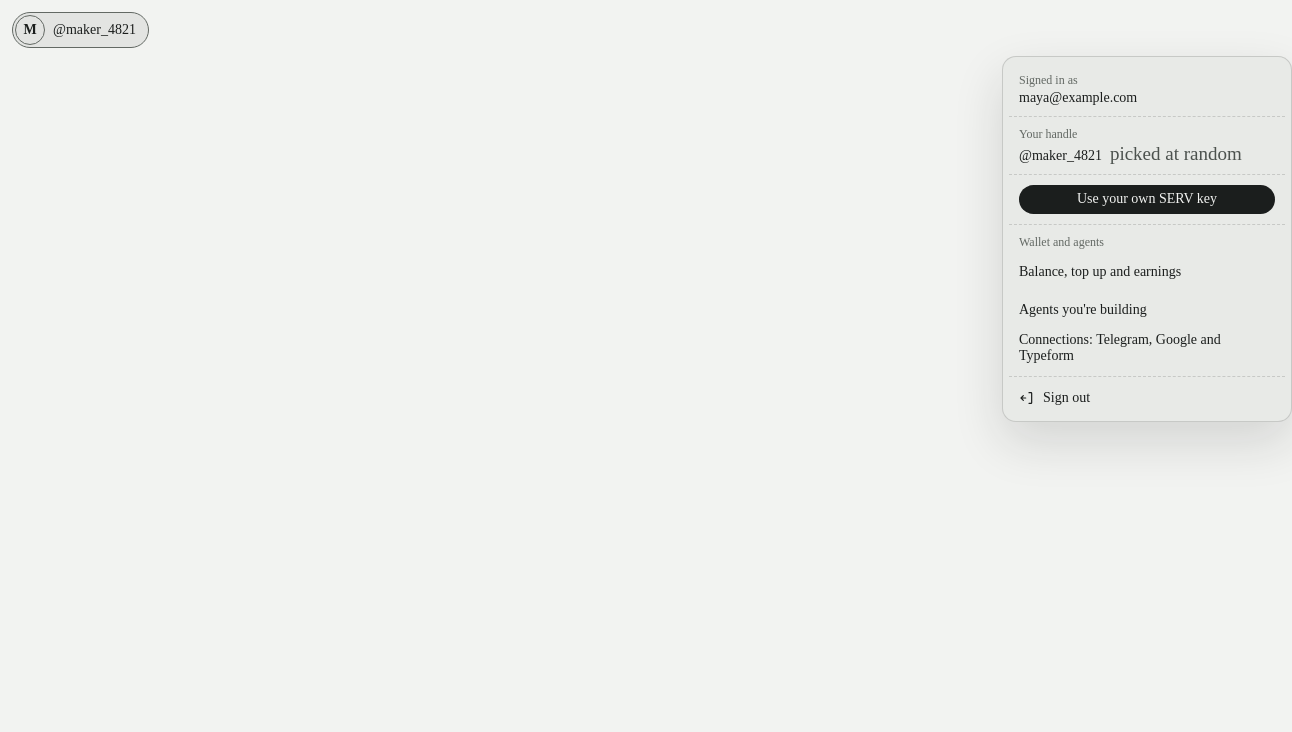
Scenario: Your SERV key › takes the key in a masked field and hands it over once, then forgets it
Click the button "Use your own SERV key" at (1147, 199), box [1019,185,1275,214]
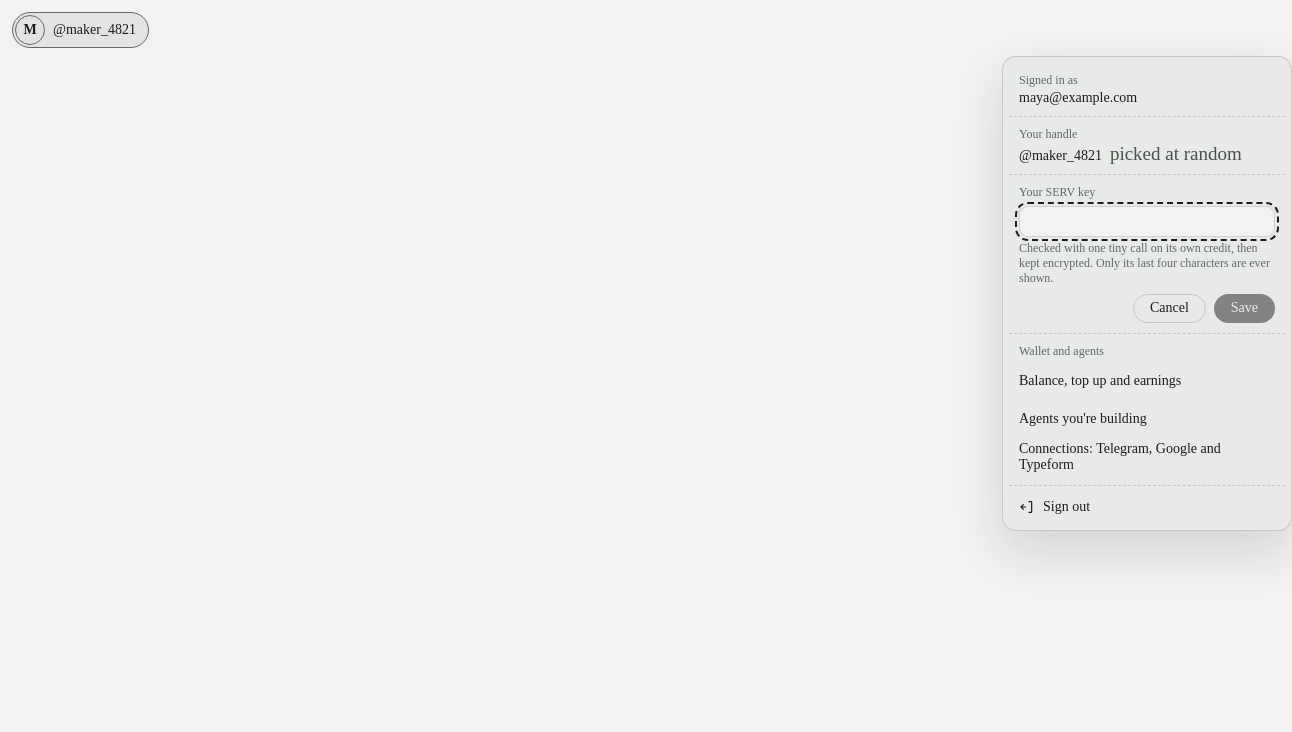
Result: the text "only its last four characters are ever shown" is shown at [1019,241,1270,285]
Type "  sk-own-abcd1234  " into the password field labelled "Your SERV key" at (1147, 222), box [1019,206,1275,237]
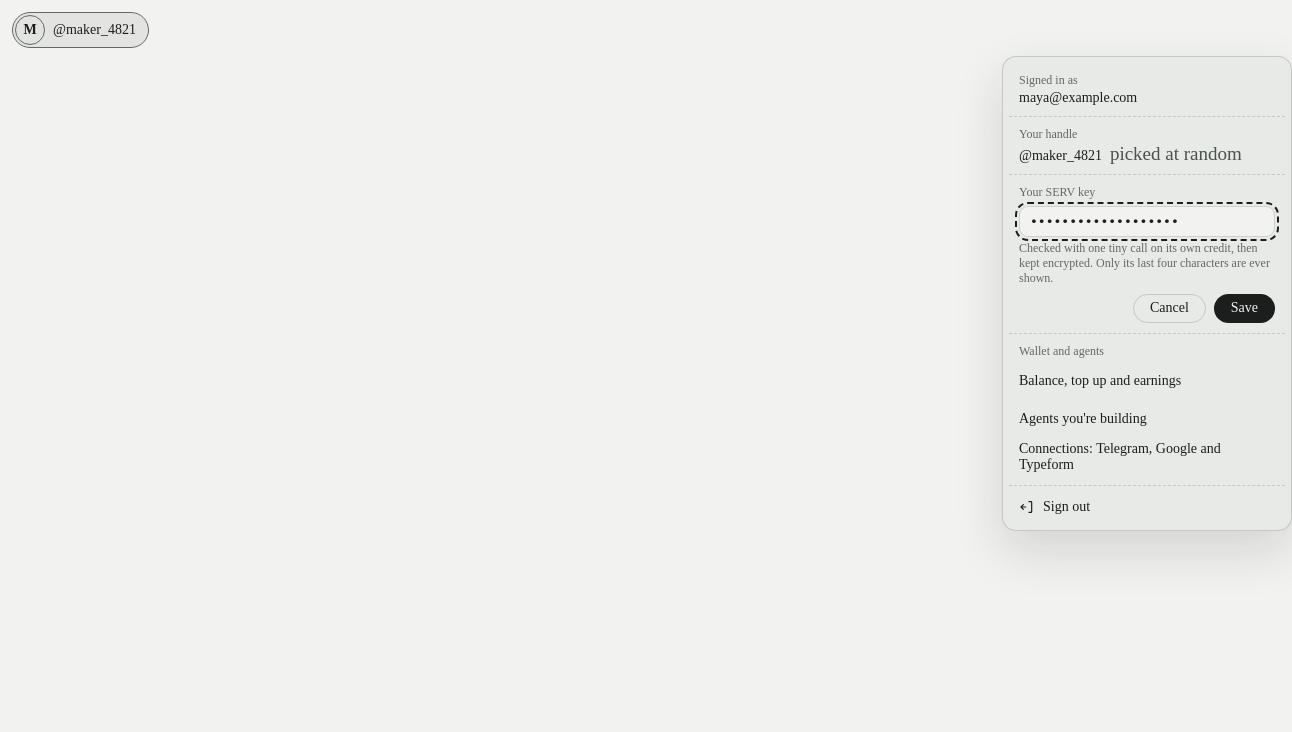
Click the button "Save" at (1244, 308), box [1214,294,1275,322]
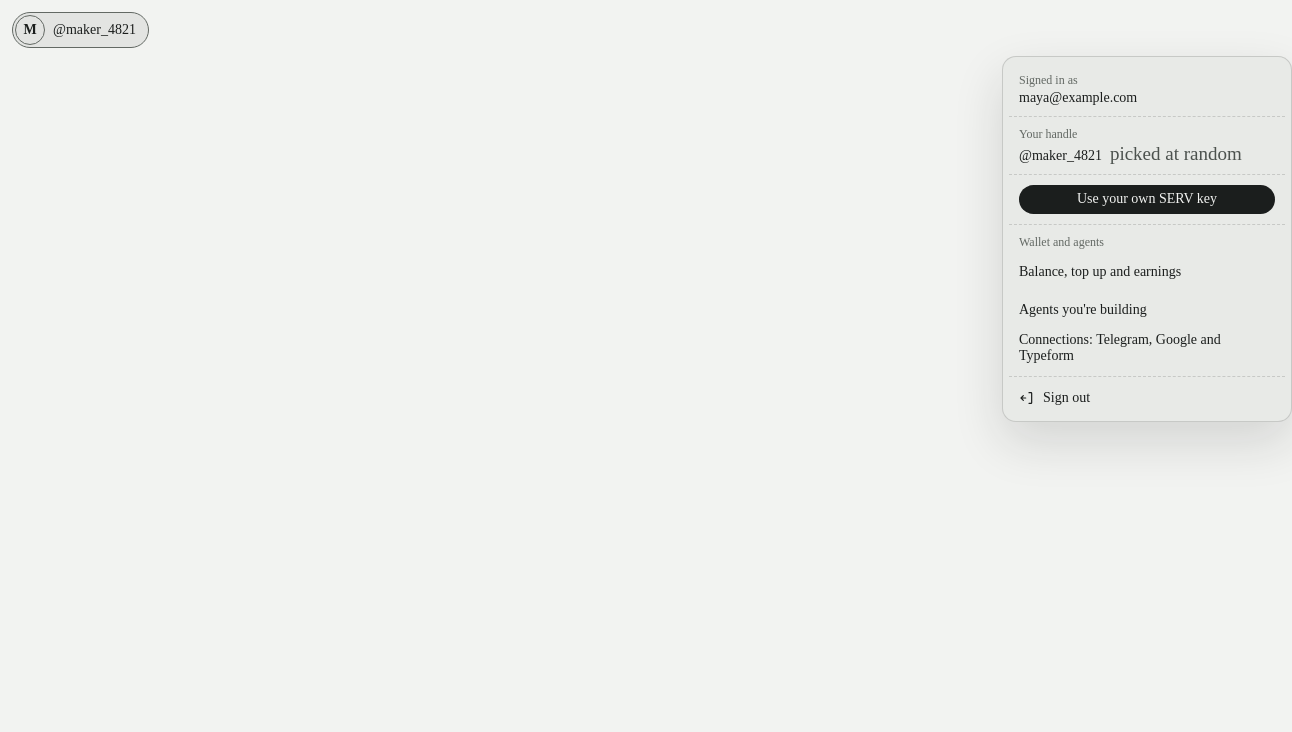
Result: the label labelled "Your SERV key" is gone
